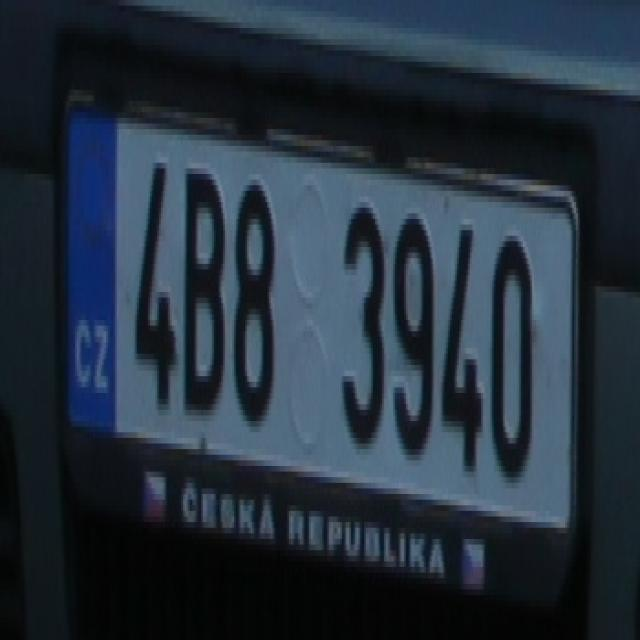0: (492, 236, 532, 483)
3: (340, 202, 388, 455)
4: (439, 225, 484, 477), (134, 152, 176, 404)
8: (229, 163, 274, 415)
9: (392, 191, 432, 455)
B: (183, 152, 225, 404)
